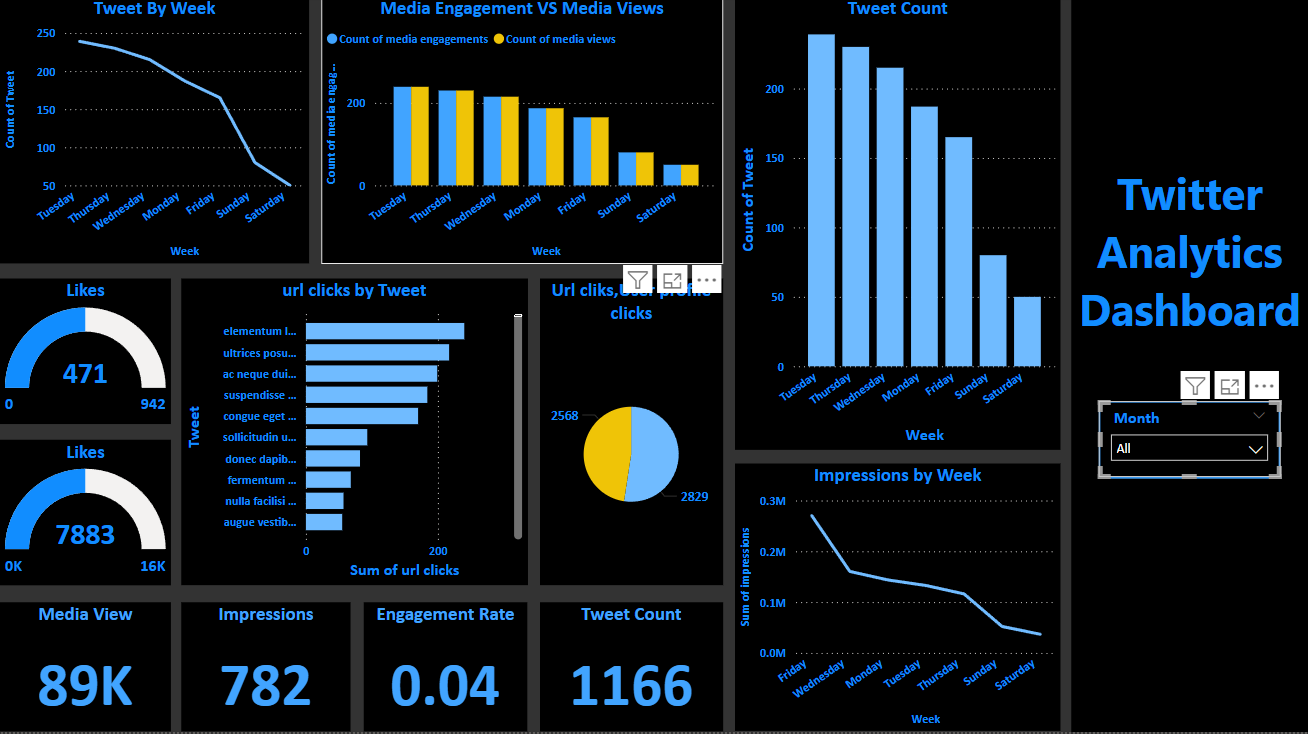

The page's visual inventory and layout, read from the dashboard file:
{"tool":"powerbi","page":{"name":"Page 4","canvas":[1280,720],"ordinal":3},"visuals":[{"type":"textbox","box":[1048.1,0,231.9,720.4],"z":0},{"type":"card","title":"Media View","fields":{"Values":["Sum(SocialMedia (4).media views)"]},"box":[0,593.4,167.3,126.6],"z":1},{"type":"card","title":"Impressions","fields":{"Values":["Avg(SocialMedia (4).impressions)"]},"box":[177.5,593.4,165.9,126.6],"z":2},{"type":"card","title":"Engagement Rate","fields":{"Values":["Avg(SocialMedia (4).engagement rate)"]},"box":[356.4,593.4,160,126.6],"z":3},{"type":"card","title":"Tweet Count","fields":{"Values":["CountNonNull(SocialMedia (4).Tweet)"]},"box":[528.1,593.4,179,126.6],"z":4},{"type":"gauge","title":"Likes","fields":{"Y":["Sum(SocialMedia (4).likes)"]},"box":[0,433.6,167.3,142.6],"z":5},{"type":"gauge","title":"Likes","fields":{"Y":["Sum(SocialMedia (4).retweets)"]},"box":[0,276.4,167.3,142.6],"z":6},{"type":"slicer","fields":{"Values":["SocialMedia (4).Month "]},"box":[1075.2,395.7,177.5,75.7],"z":7},{"type":"clusteredBarChart","title":"url clicks by Tweet","fields":{"Category":["SocialMedia (4).Tweet"],"Y":["Sum(SocialMedia (4).url clicks)"]},"box":[177.5,276.4,339,299.7],"z":8},{"type":"lineChart","title":"Impressions by Week","fields":{"Y":["Sum(SocialMedia (4).impressions)"],"Category":["SocialMedia (4).Day Name"]},"box":[718.7,456.8,318.6,261.9],"z":9},{"type":"pieChart","title":"Url cliks,User profile clicks","fields":{"Y":["Sum(SocialMedia (4).url clicks)","Sum(SocialMedia (4).user profile clicks)"]},"box":[528.1,276.4,179,299.7],"z":10},{"type":"lineChart","title":"Tweet By Week","fields":{"Y":["CountNonNull(SocialMedia (4).Tweet)"],"Category":["SocialMedia (4).Day Name"]},"box":[0,0,302.6,261.9],"z":11},{"type":"clusteredColumnChart","title":"Media Engagement VS Media Views","fields":{"Category":["SocialMedia (4).Day Name"],"Y":["CountNonNull(SocialMedia (4).media views)","CountNonNull(SocialMedia (4).media engagements)"]},"box":[314.3,0,392.8,261.9],"z":12},{"type":"columnChart","title":"Tweet Count","fields":{"Y":["CountNonNull(SocialMedia (4).Tweet)"],"Category":["SocialMedia (4).Day Name"]},"box":[718.7,0,318.6,443.7],"z":13}]}

Visuals, with their boxes in screenshot pixels (x1, y1, x2, y2), scaled from the page's 1280x720 canvas onto the 1308x734 screenshot:
textbox: region(1071, 0, 1307, 733)
"Media View" card: region(0, 605, 171, 733)
"Impressions" card: region(181, 605, 351, 733)
"Engagement Rate" card: region(364, 605, 528, 733)
"Tweet Count" card: region(540, 605, 723, 733)
"Likes" gauge: region(0, 442, 171, 587)
"Likes" gauge: region(0, 282, 171, 427)
slicer - SocialMedia (4).Month : region(1099, 403, 1280, 481)
"url clicks by Tweet" clusteredBarChart: region(181, 282, 528, 587)
"Impressions by Week" lineChart: region(734, 466, 1060, 733)
"Url cliks,User profile clicks" pieChart: region(540, 282, 723, 587)
"Tweet By Week" lineChart: region(0, 0, 309, 267)
"Media Engagement VS Media Views" clusteredColumnChart: region(321, 0, 723, 267)
"Tweet Count" columnChart: region(734, 0, 1060, 452)
